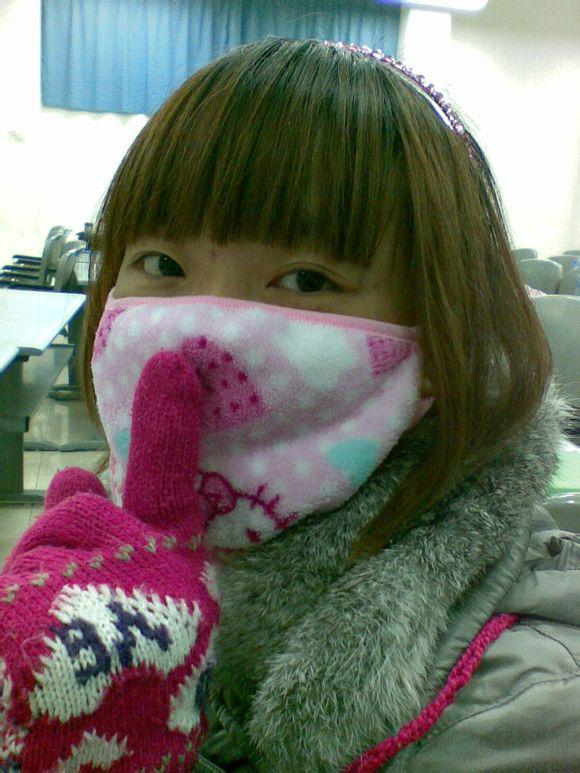OK: (97, 209, 411, 523)
